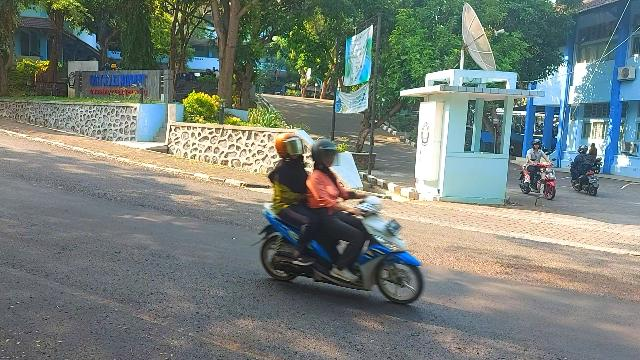helm: (313, 141, 340, 170), (277, 133, 304, 158), (532, 140, 542, 150), (578, 146, 588, 155)
motor: (253, 185, 424, 306), (521, 160, 558, 201)
